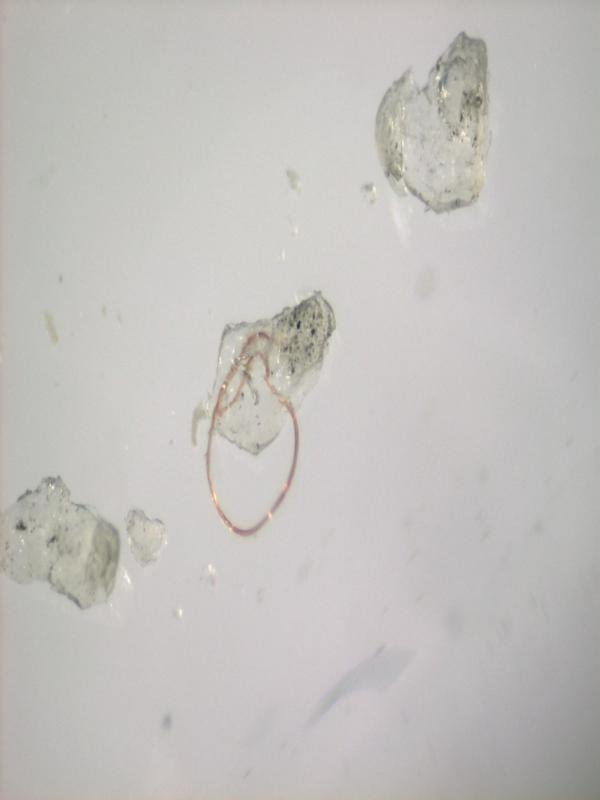microplastic: (204, 287, 336, 537), (373, 29, 492, 214)
